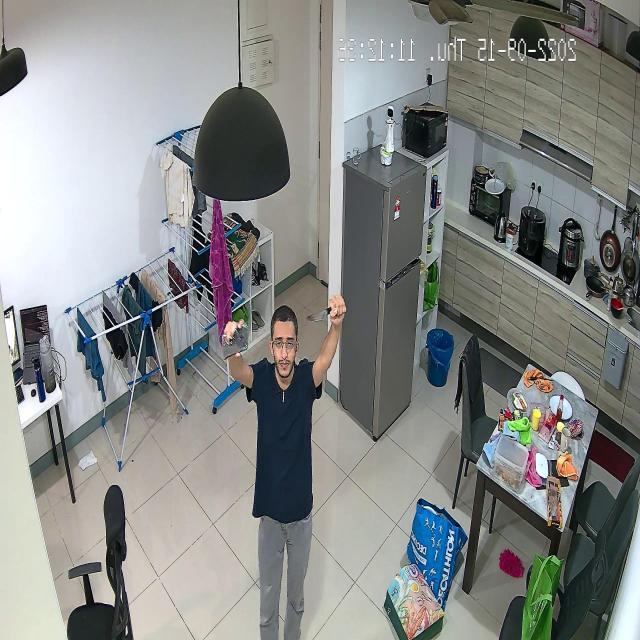Knife: (307, 298, 349, 330)
